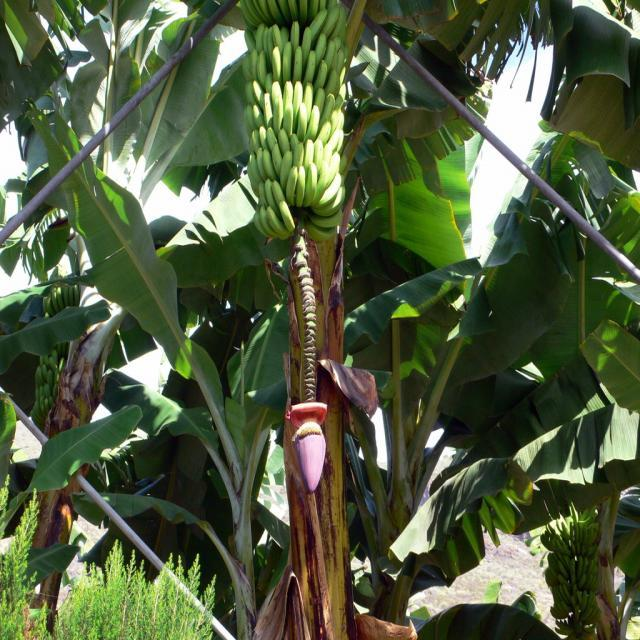Banana: (236, 0, 351, 241), (540, 507, 599, 639), (33, 284, 81, 434)
